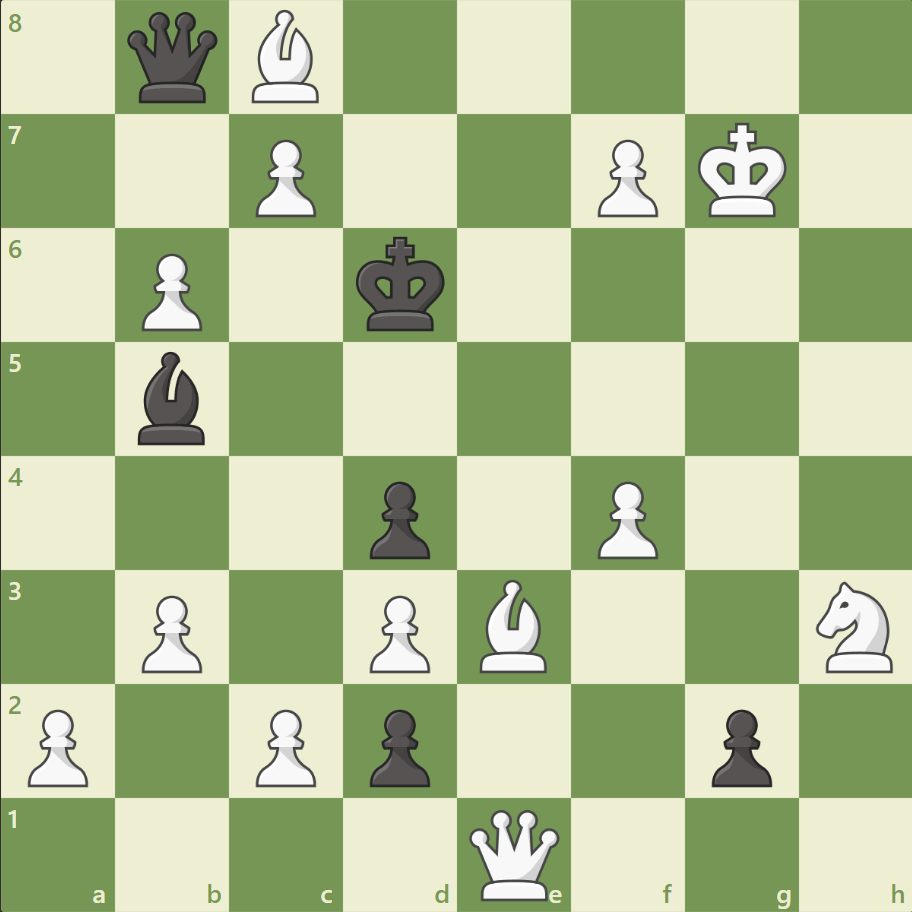B: (244, 6, 328, 109), (471, 574, 555, 676)
K: (692, 117, 792, 225)
N: (806, 575, 903, 677)
P: (247, 132, 322, 223), (133, 246, 208, 337), (133, 586, 208, 677), (20, 700, 95, 791), (247, 700, 322, 791), (588, 132, 662, 223), (588, 473, 662, 564), (361, 586, 435, 677)
Q: (464, 804, 563, 903)
b: (131, 347, 215, 449)
k: (351, 231, 451, 339)
p: (701, 700, 776, 791), (361, 473, 435, 564), (361, 700, 435, 791)
q: (124, 9, 223, 108)
